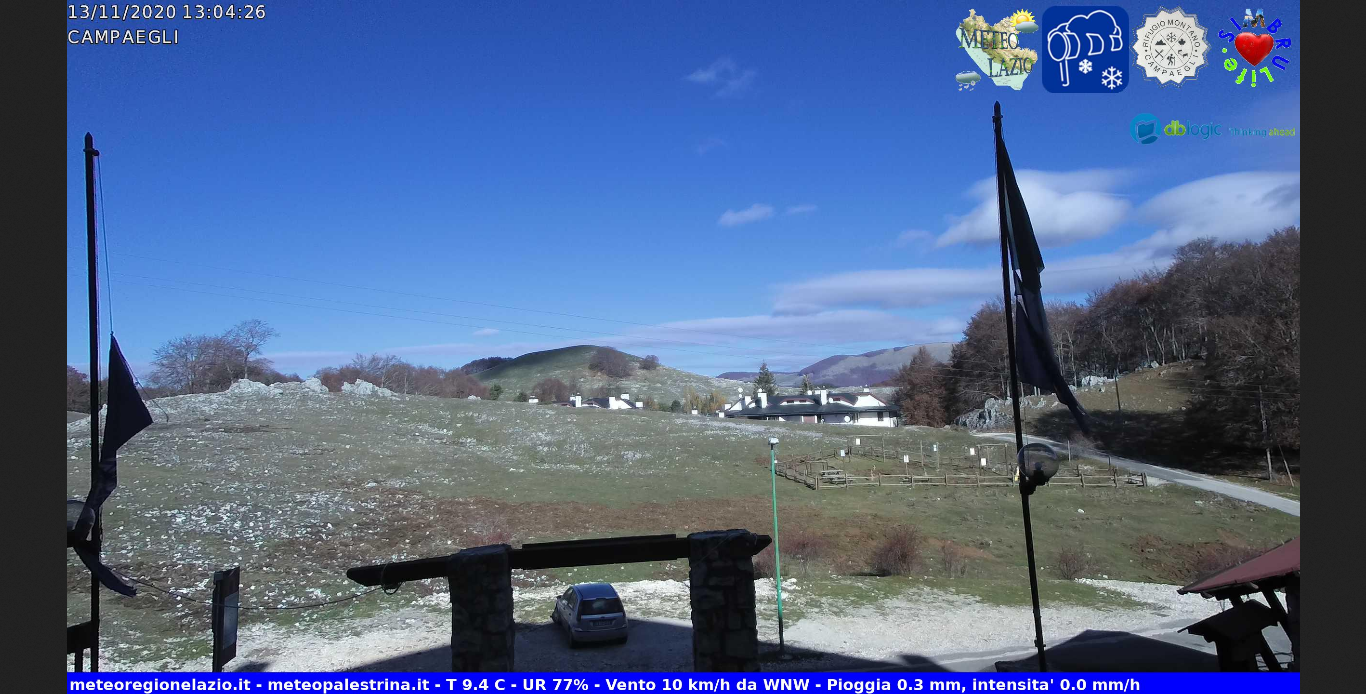no: (982, 98, 1092, 435)
